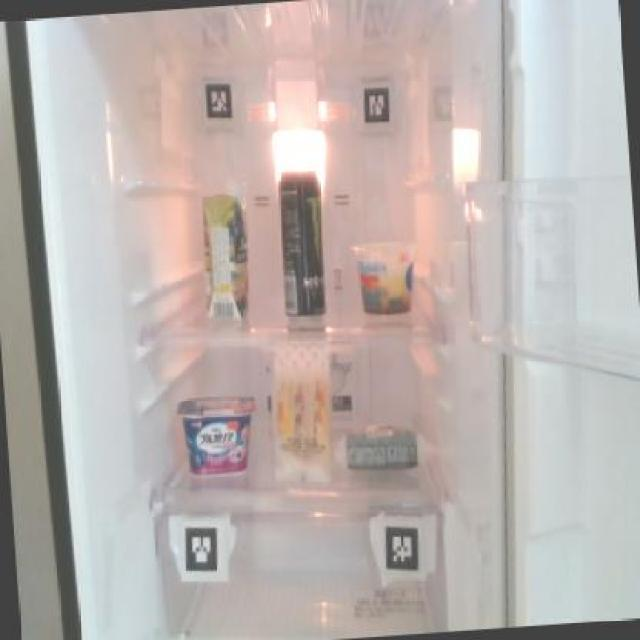energy_drink: (274, 165, 330, 322)
pudding: (351, 236, 418, 319)
rice_ball: (338, 418, 426, 480)
sandwich: (265, 330, 338, 487)
smoothie: (196, 171, 256, 324)
yogurt: (176, 393, 259, 481)
